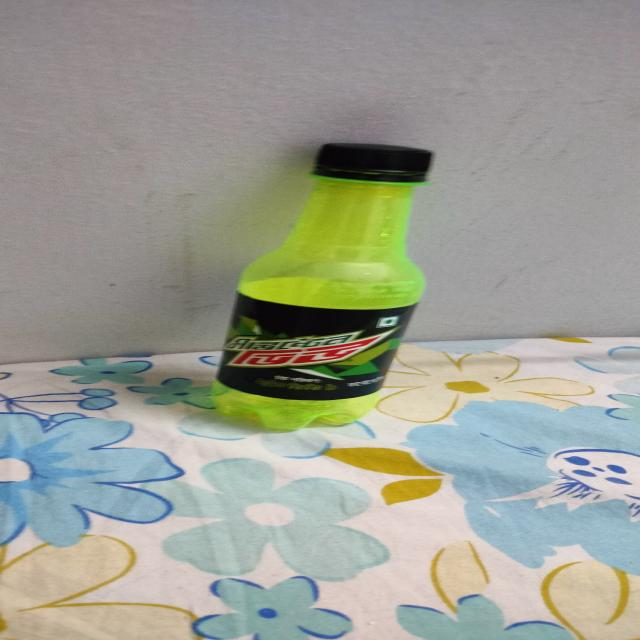Bottle: (214, 142, 435, 430)
